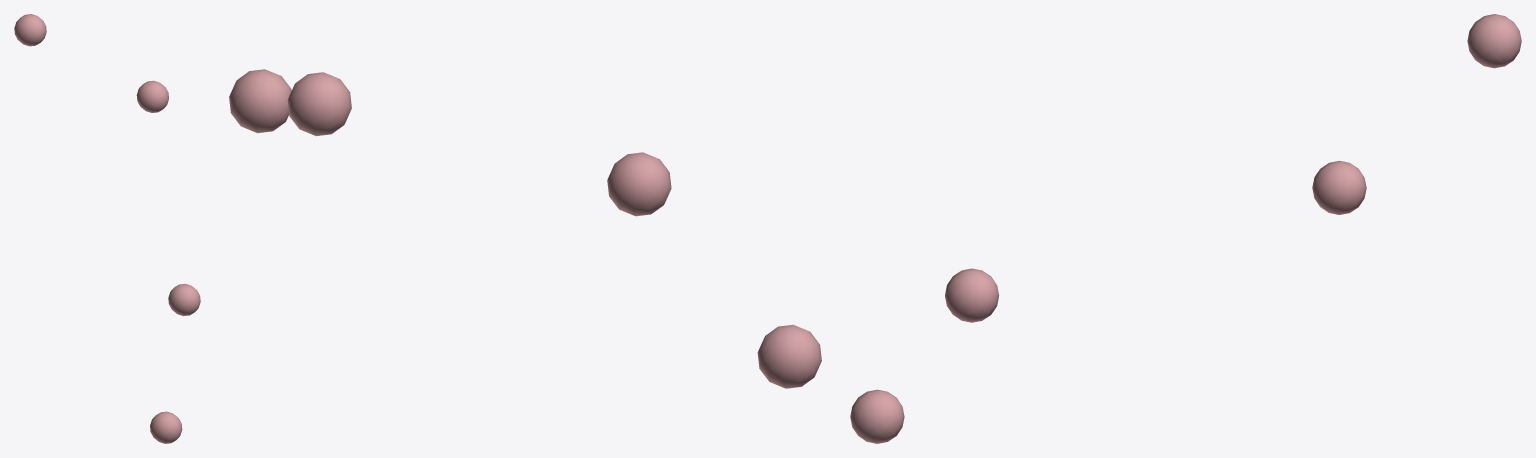
3 views of the same model, side by side, from view 1: azimuth 30°, elevation 25°; view 2: azimuth 150°, elevation 25°; view 3: azimuth 270°, elevation 25° (orthographic). The views are drawn at different scales.
Parts seen in each view (by area): view 1: ZA_5bfdcb83cb650272; view 2: ZA_5bfdcb83cb650272; view 3: ZA_5bfdcb83cb650272.
Boxes of the visible parts, x1=… form: ZA_5bfdcb83cb650272: x1=14, y1=14, x2=200, y2=443; ZA_5bfdcb83cb650272: x1=229, y1=69, x2=821, y2=388; ZA_5bfdcb83cb650272: x1=850, y1=14, x2=1521, y2=443.
Bounding box in the file's own units: 0.0141 × 0.0245 × 0.0321.
